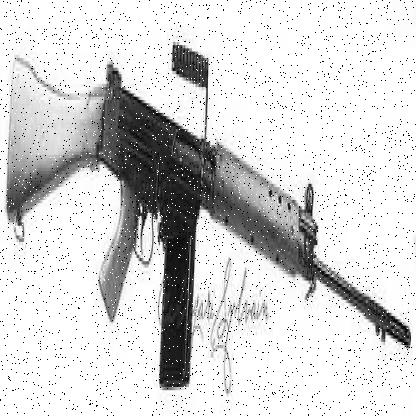rifle: (7, 7, 414, 365)
